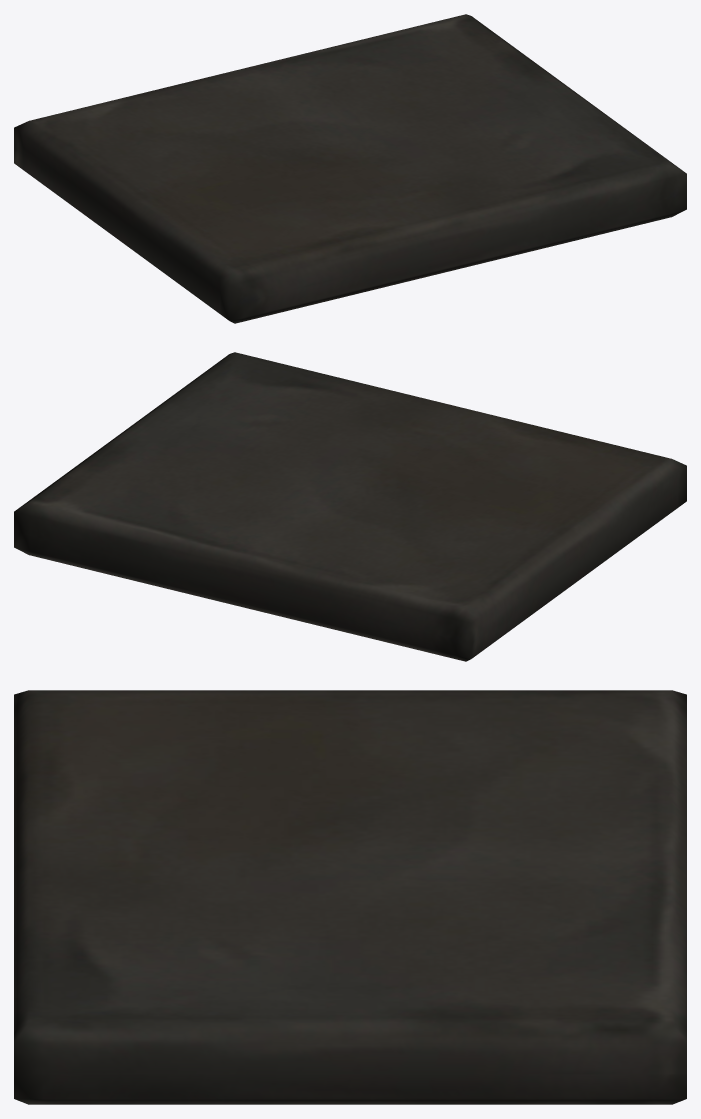
Rendered from LongStone.fbx.
3 renders of one model, top to bottom at view 1: azimuth 30°, elevation 25°; view 2: azimuth 150°, elevation 25°; view 3: azimuth 270°, elevation 25°, orthographic. The views are drawn at different scales.
Visible parts, largest first — view 1: pCube12; view 2: pCube12; view 3: pCube12.
Part boxes in pixels (bbox=[...]): pCube12: bbox=[14, 14, 686, 323]; pCube12: bbox=[14, 352, 686, 661]; pCube12: bbox=[14, 690, 686, 1104].
Bounding box in the file's own units: 2.08 × 0.226 × 1.7.
